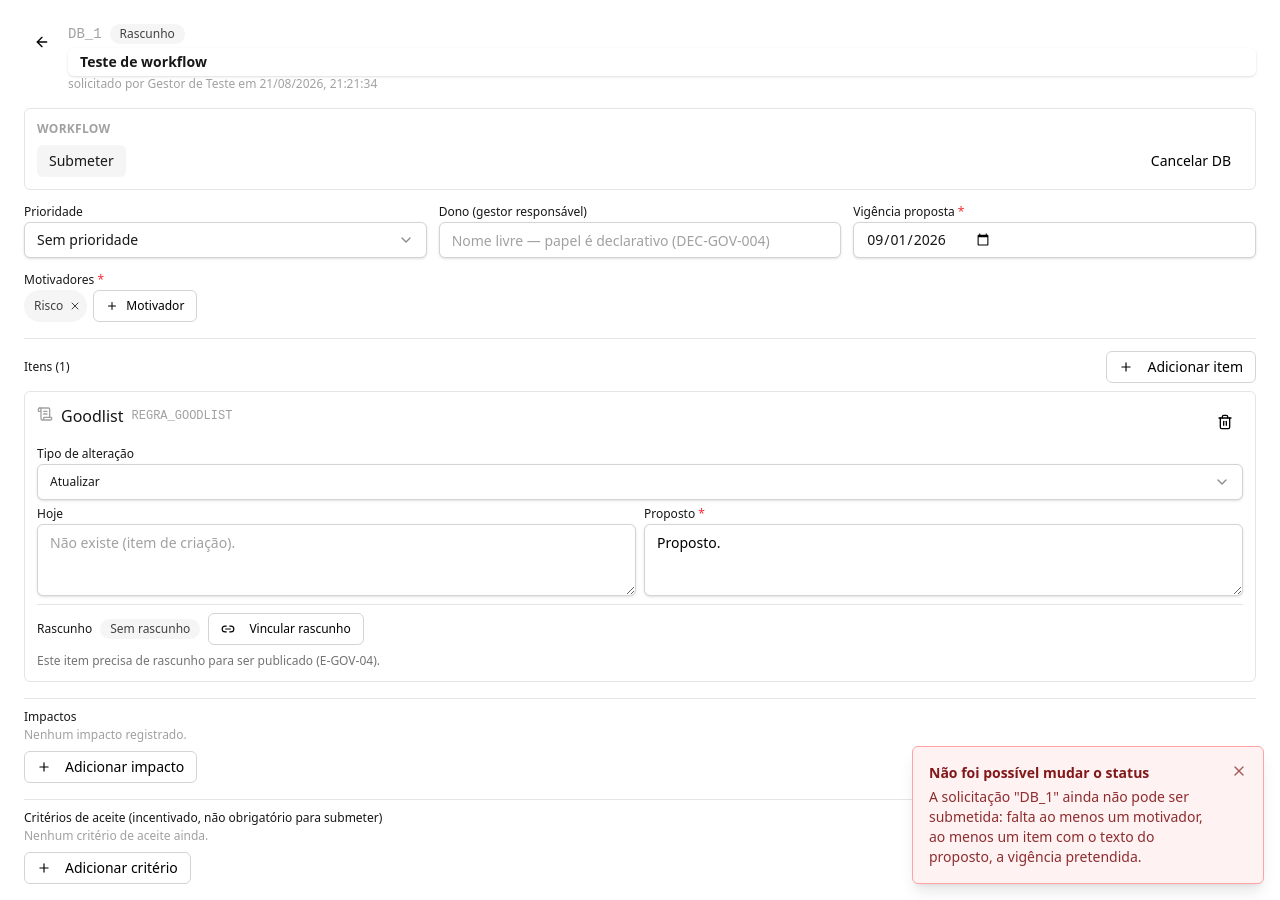
Test: ChangeRequestDetail — ações visíveis por estado (docs/14 §5) › DRAFT mostra Submeter; SUBMITTED mostra "mover para em revisão"; IN_REVIEW mostra as três decisões
Expected: the button "Aprovar" is not shown
Click the button "Submeter": coordinates (81, 161) [37,145,126,177]
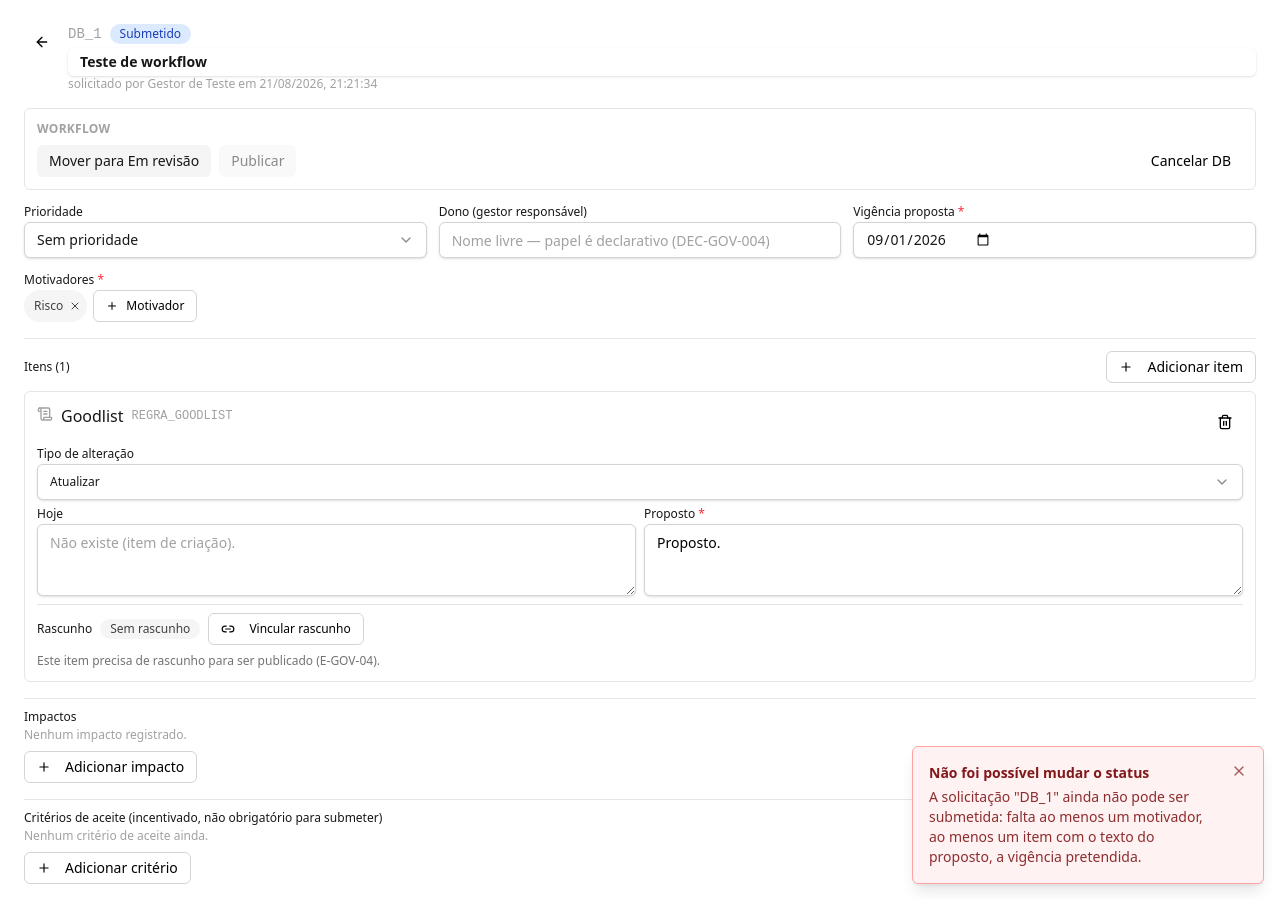
Expected: the button "Aprovar" is not shown
Now the text "Submetido" is shown, box [110,24,191,44]
Now the button "Mover para Em revisão" is shown
Click the button "Mover para Em revisão": coordinates (124, 161) [37,145,211,177]
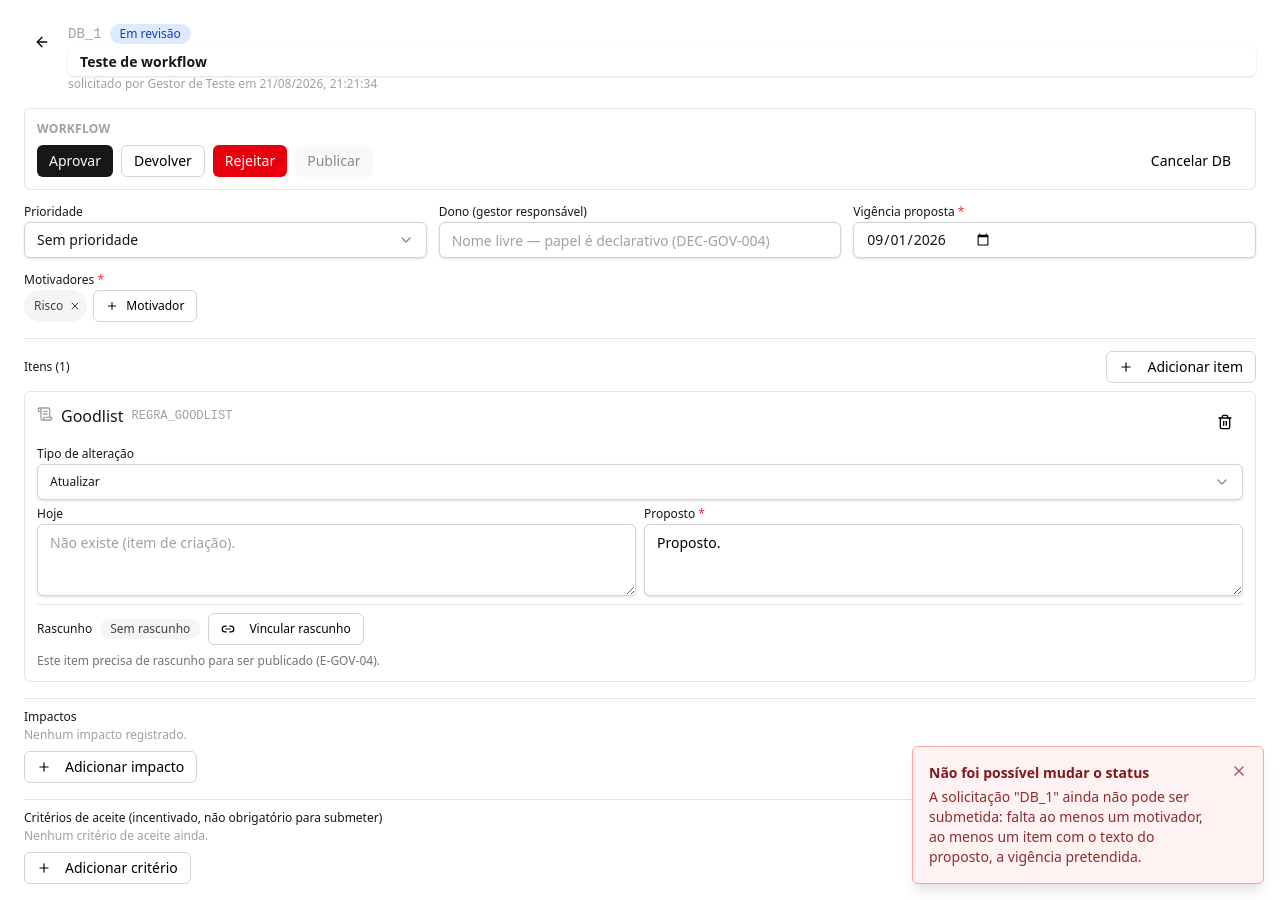
Now the text "Em revisão" is shown, box [110,24,191,44]
Now the button "Aprovar" is shown, box [37,145,113,177]
Now the button "Devolver" is shown, box [121,145,205,177]
